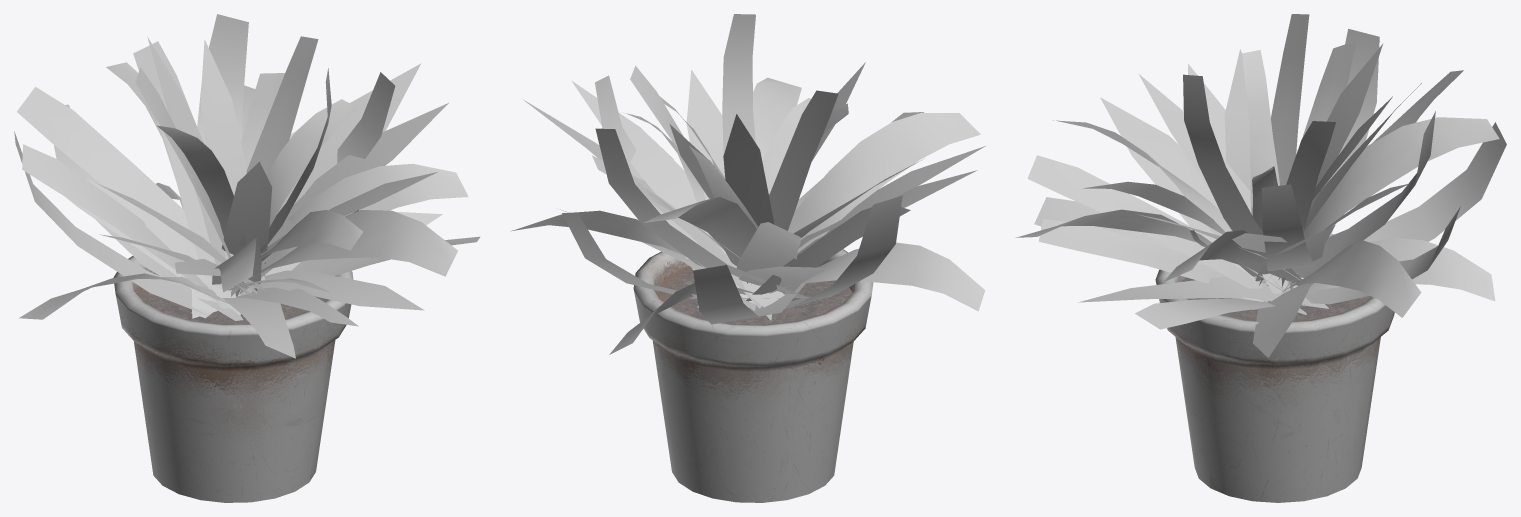
File: SM_FlowerPot_A2.fbx
3 views of the same model, side by side, from view 1: azimuth 30°, elevation 25°; view 2: azimuth 150°, elevation 25°; view 3: azimuth 270°, elevation 25° (orthographic).
Visible parts, largest first — view 1: SM_FlowerPot_A2; view 2: SM_FlowerPot_A2; view 3: SM_FlowerPot_A2.
Boxes of the visible parts, <box> form: SM_FlowerPot_A2: <box>14,14,480,502</box>; SM_FlowerPot_A2: <box>510,14,985,502</box>; SM_FlowerPot_A2: <box>1015,14,1506,502</box>.
Size of the model in its own units: 24.48 by 23.9 by 22.5.
Materials: 2 (1 with a texture image).
